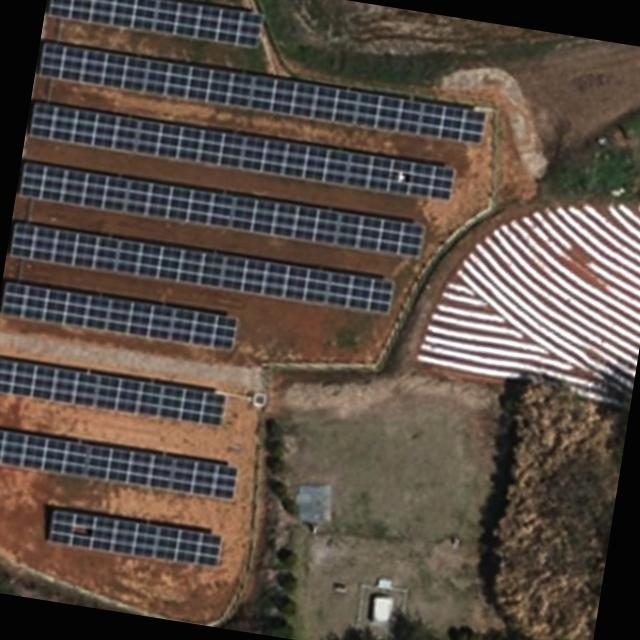solar: (35, 37, 488, 147), (26, 99, 456, 203), (18, 160, 426, 260), (8, 220, 395, 313), (0, 426, 239, 500), (0, 280, 238, 350), (0, 358, 226, 427), (44, 506, 224, 569), (45, 0, 265, 47)
